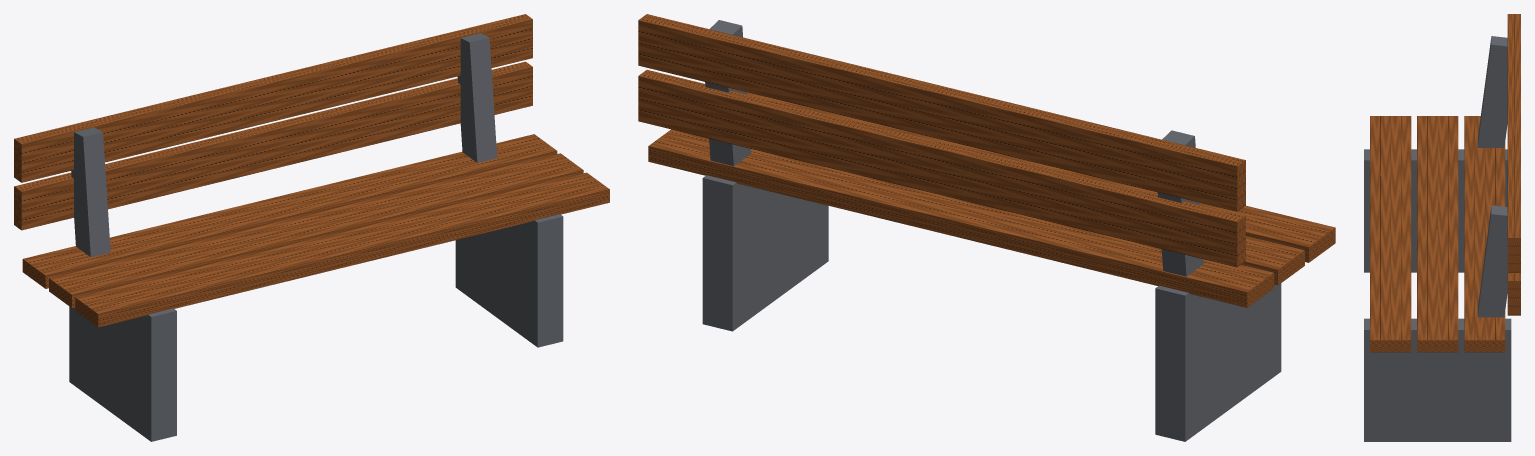
The model's file is dog-agility-and-training-field-spectator-bench-f8c4825c__35607.glb.
3 renders of one model, left to right at view 1: azimuth 30°, elevation 25°; view 2: azimuth 150°, elevation 25°; view 3: azimuth 270°, elevation 25°, orthographic. The views are drawn at different scales.
Visible parts, largest first — view 1: spectator-bench-timber, spectator-bench-charcoal; view 2: spectator-bench-timber, spectator-bench-charcoal; view 3: spectator-bench-timber, spectator-bench-charcoal.
Part boxes in pixels (x1=…): spectator-bench-timber: x1=14, y1=14, x2=609, y2=327; spectator-bench-charcoal: x1=69, y1=33, x2=563, y2=441; spectator-bench-timber: x1=638, y1=14, x2=1335, y2=307; spectator-bench-charcoal: x1=702, y1=20, x2=1281, y2=441; spectator-bench-timber: x1=1370, y1=14, x2=1520, y2=352; spectator-bench-charcoal: x1=1364, y1=36, x2=1511, y2=441.
Size of the model in its own units: 1.8 by 0.8488 by 0.5325.
Materials: 2 (1 with a texture image).
